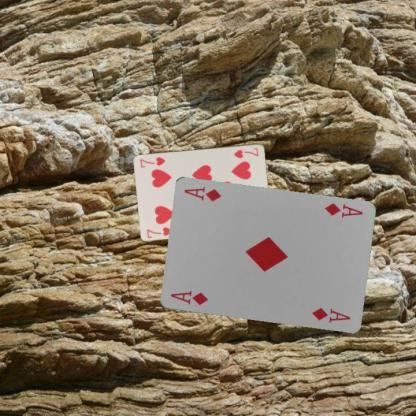7h: (144, 224, 173, 239), (231, 145, 260, 159)
Ad: (322, 200, 364, 219), (168, 288, 209, 307)
